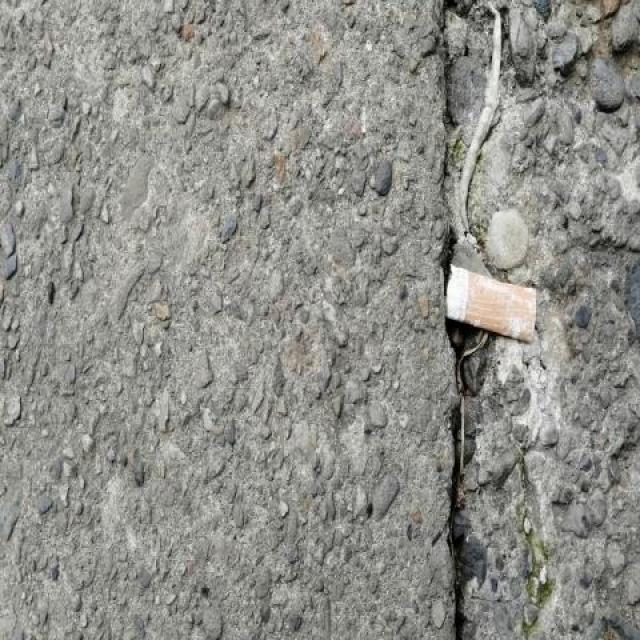non-organic waste: (431, 258, 545, 354)
